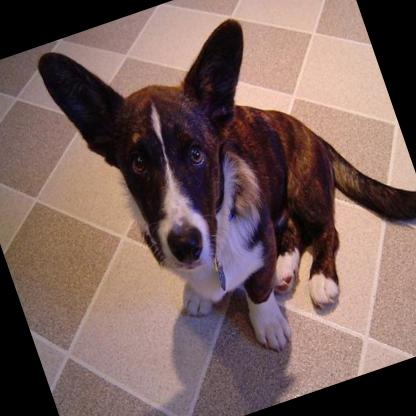Cardigan: (31, 0, 416, 400)
